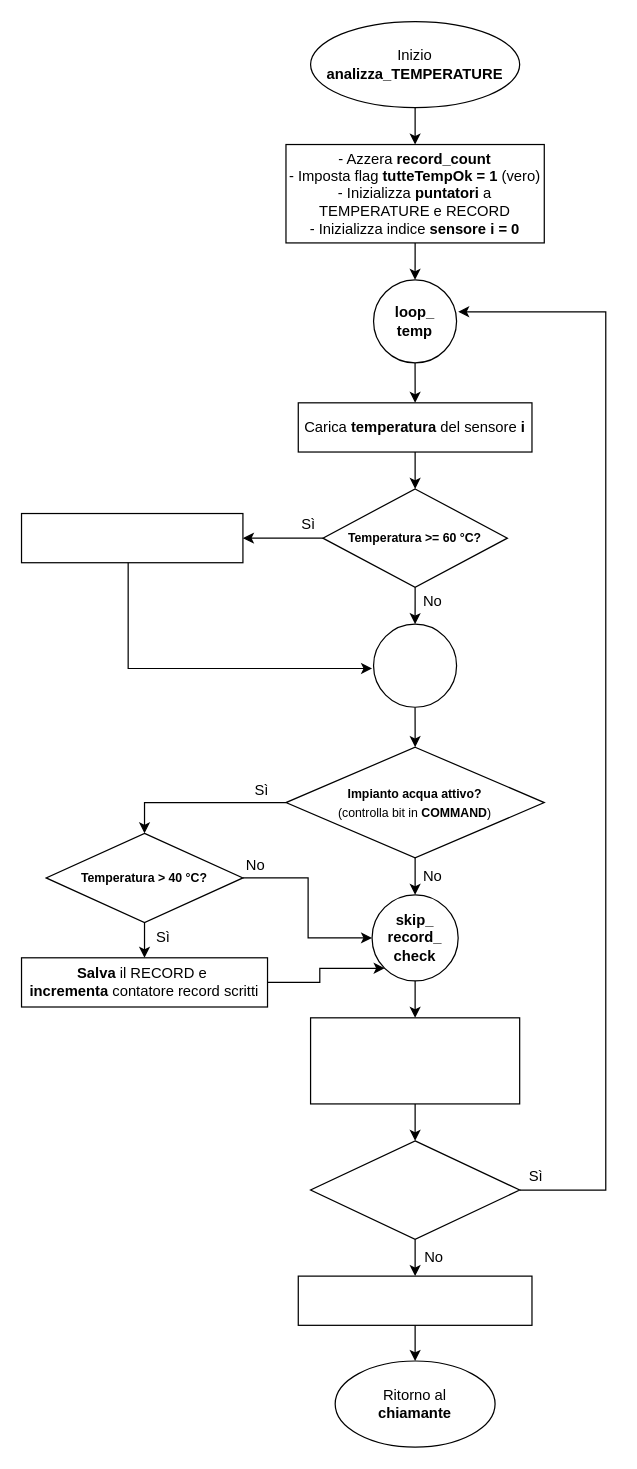
Image size: 637x1469. Some labels were removed from this diagram. Here are the shapes that lost their labels. From the top down, the box of each, then its label:
(20, 512, 243, 563): Imposta flag t utteTempOk = 0 (falso)
(372, 623, 457, 707): record_ check
(309, 1017, 520, 1104): - Avanza puntatore TEMPERATURE al prossimo sensore - Incrementa indice: i++
(309, 1140, 520, 1239): i < NUM_SENSORI_ATTIVI?
(297, 1275, 532, 1325): Salva il conteggio finale dei record scritti
